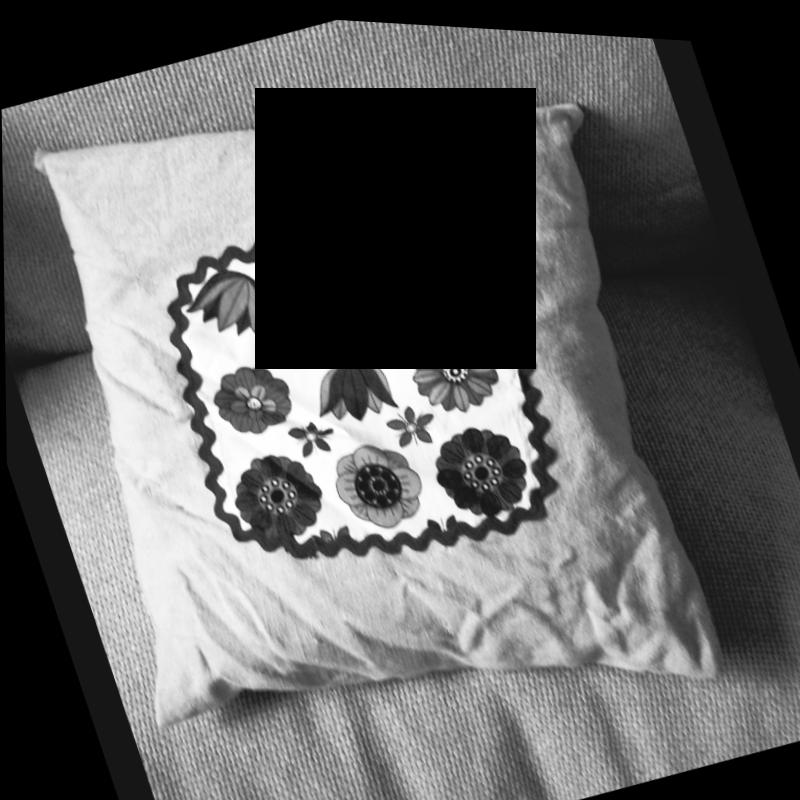pillow: (0, 0, 769, 800)
